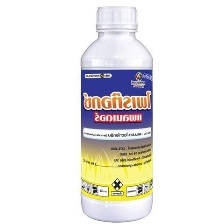insecticide: (75, 3, 159, 223)
